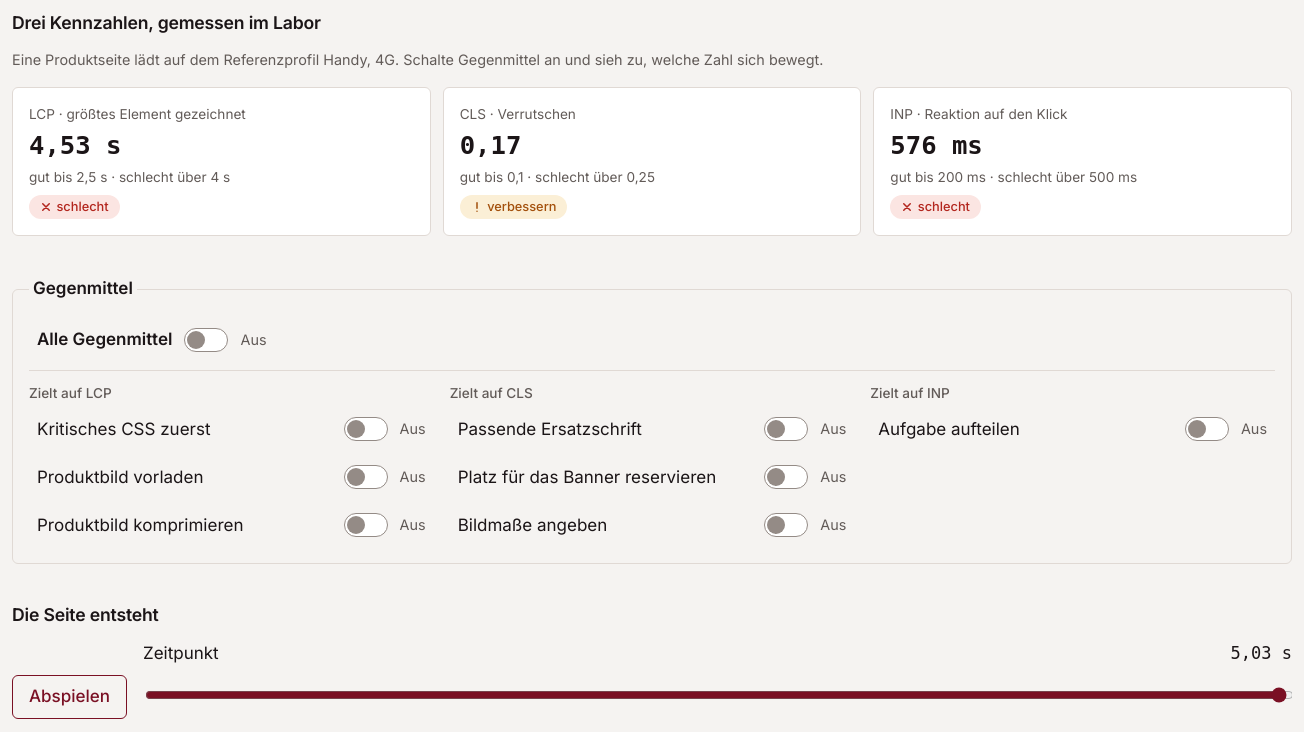
Test: D-002 Demo › Alle Gegenmittel: alles gut, Hauptschalter an
Click the switch labelled "Alle Gegenmittel Aus" at (152, 340), box [29,318,274,362]
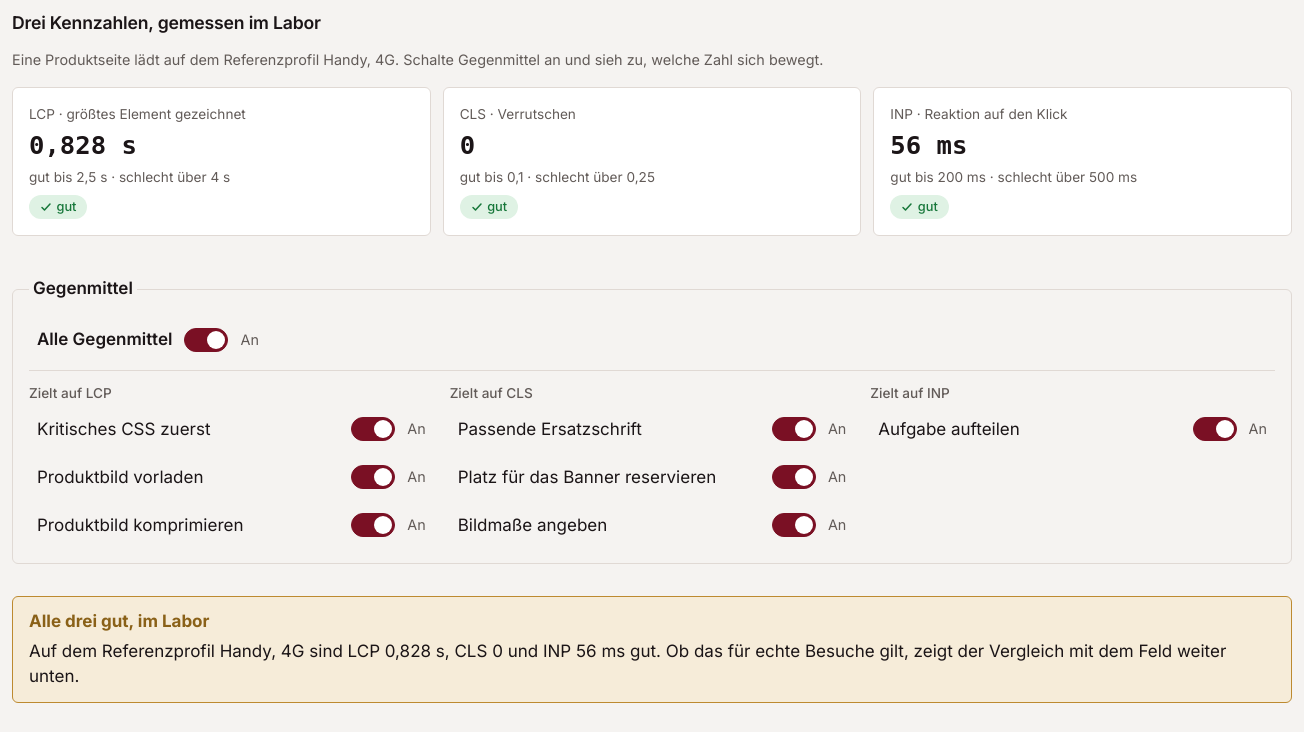
Now the text "Alle drei gut, im Labor" is shown, box [29,611,210,631]
